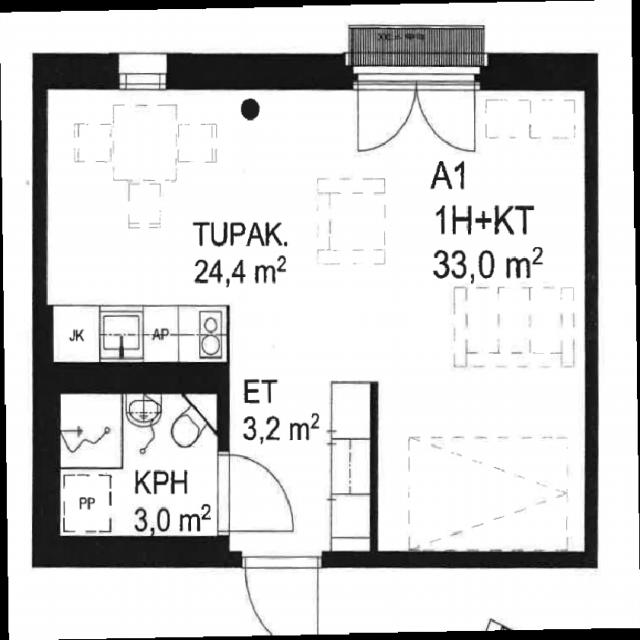door: (416, 54, 476, 160), (356, 54, 416, 160), (218, 456, 293, 530)
